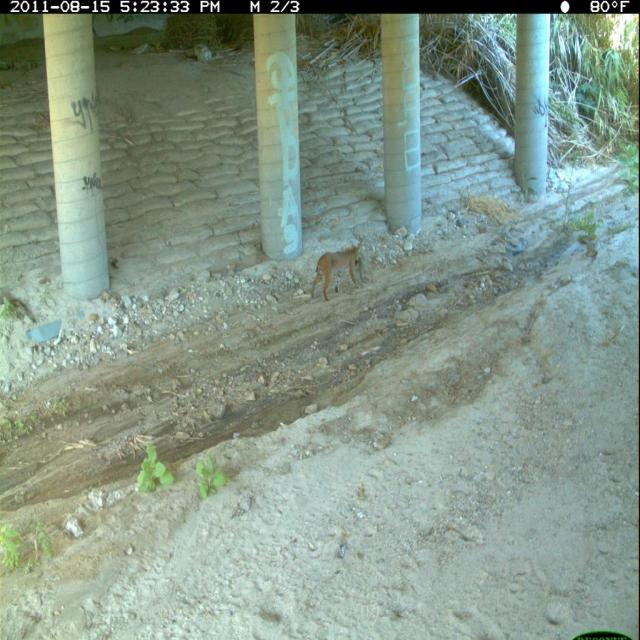bobcat: (308, 232, 365, 305)
rabbit: (356, 250, 372, 292)
